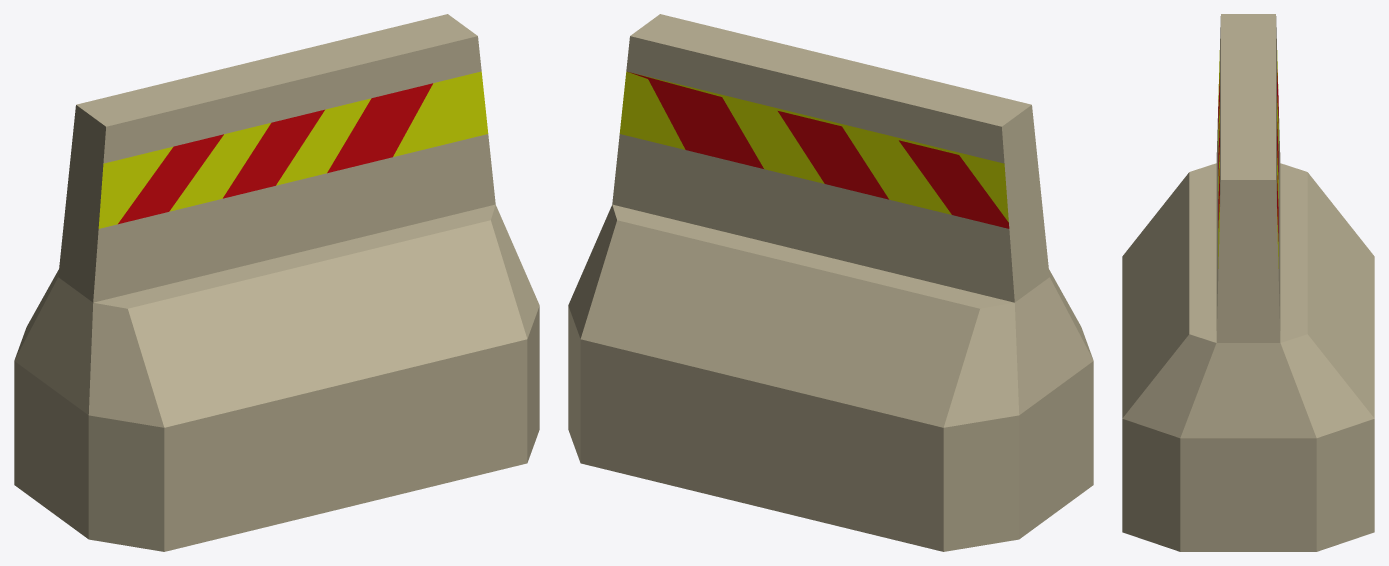
File: stop.fbx
The picture shows the model from 3 angles, left to right: view 1: azimuth 30°, elevation 25°; view 2: azimuth 150°, elevation 25°; view 3: azimuth 270°, elevation 25°; orthographic projection. The views are drawn at different scales.
Visible parts, largest first — view 1: Cube; view 2: Cube; view 3: Cube.
Part boxes in pixels (x1,y1,x2,y2): Cube: [14, 14, 539, 551]; Cube: [568, 14, 1093, 551]; Cube: [1122, 14, 1374, 551].
Bounding box in the file's own units: 248 × 204 × 132.
